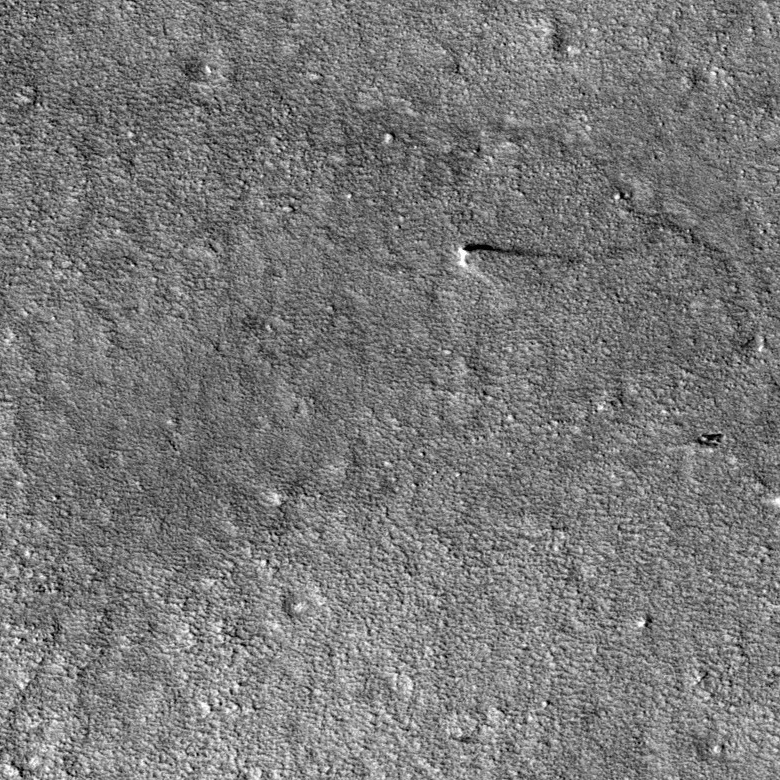dust_devil: (454, 240, 574, 270)
